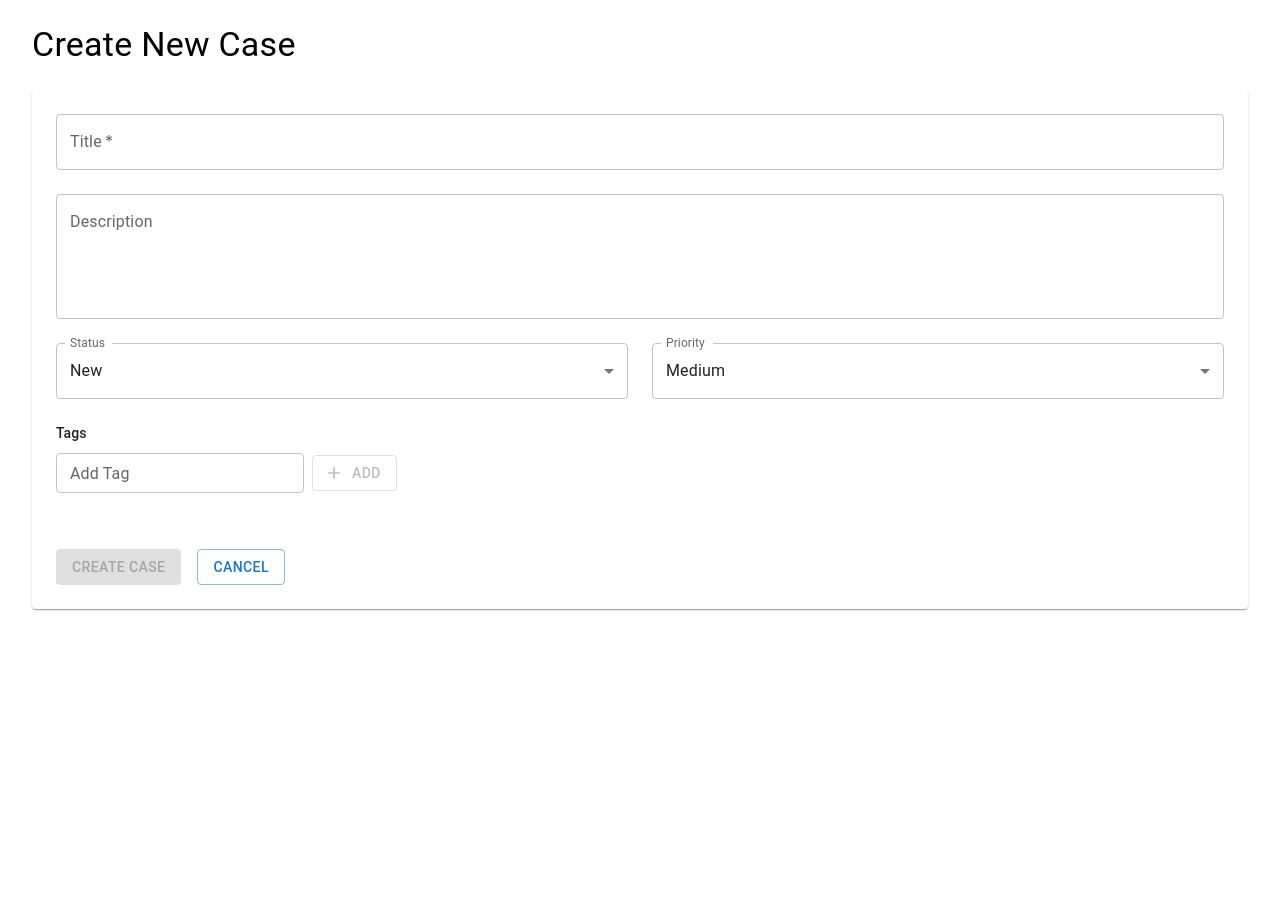
Test: CaseForm — submission › shows success message and navigates after successful create
This screenshot has width=1280, height=900.
Type "Hello" into the field labelled "Title *" at (640, 142), box [56,114,1224,170]
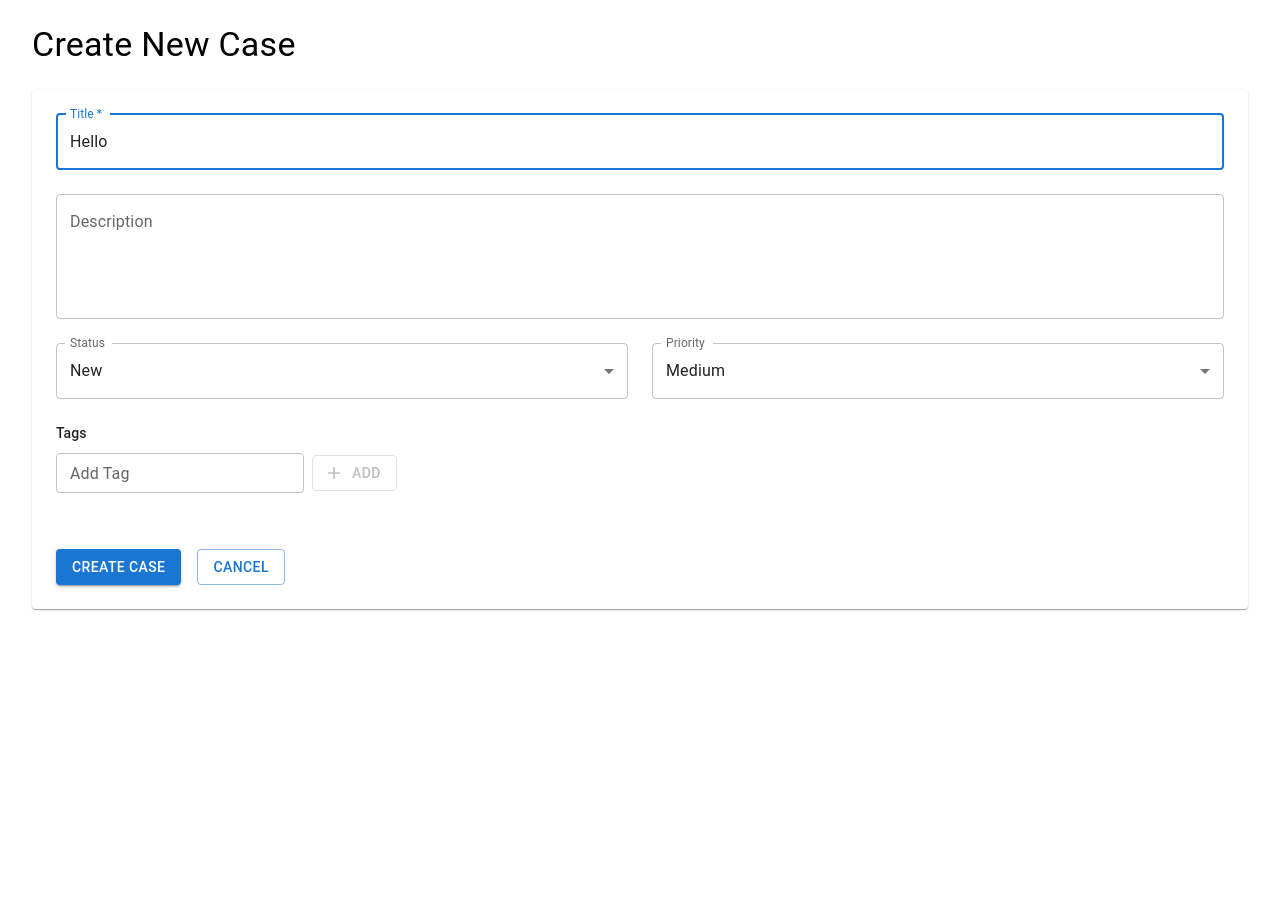
Click the button "Create Case" at (119, 567), box [56,549,181,586]
Wait 1600 ms
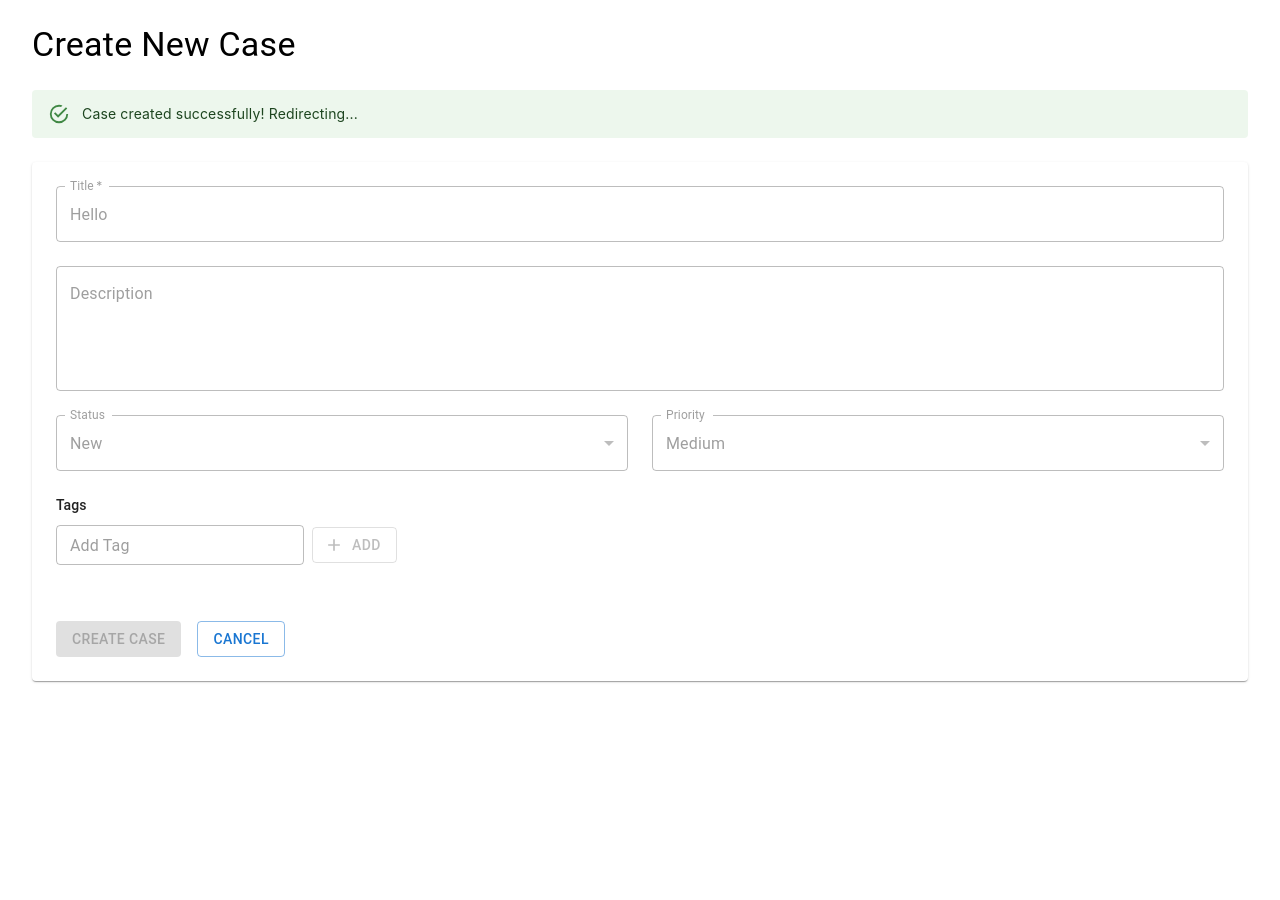
Result: the text "Case created successfully! Redirecting..." is shown at [82,105,358,122]
